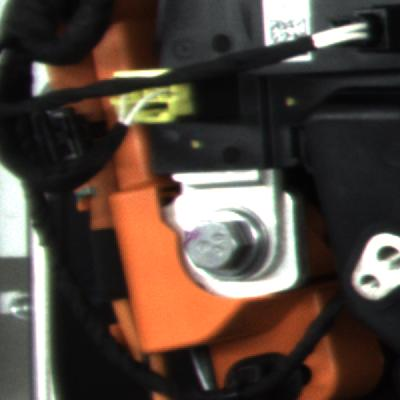nut_b: (170, 195, 284, 292)
